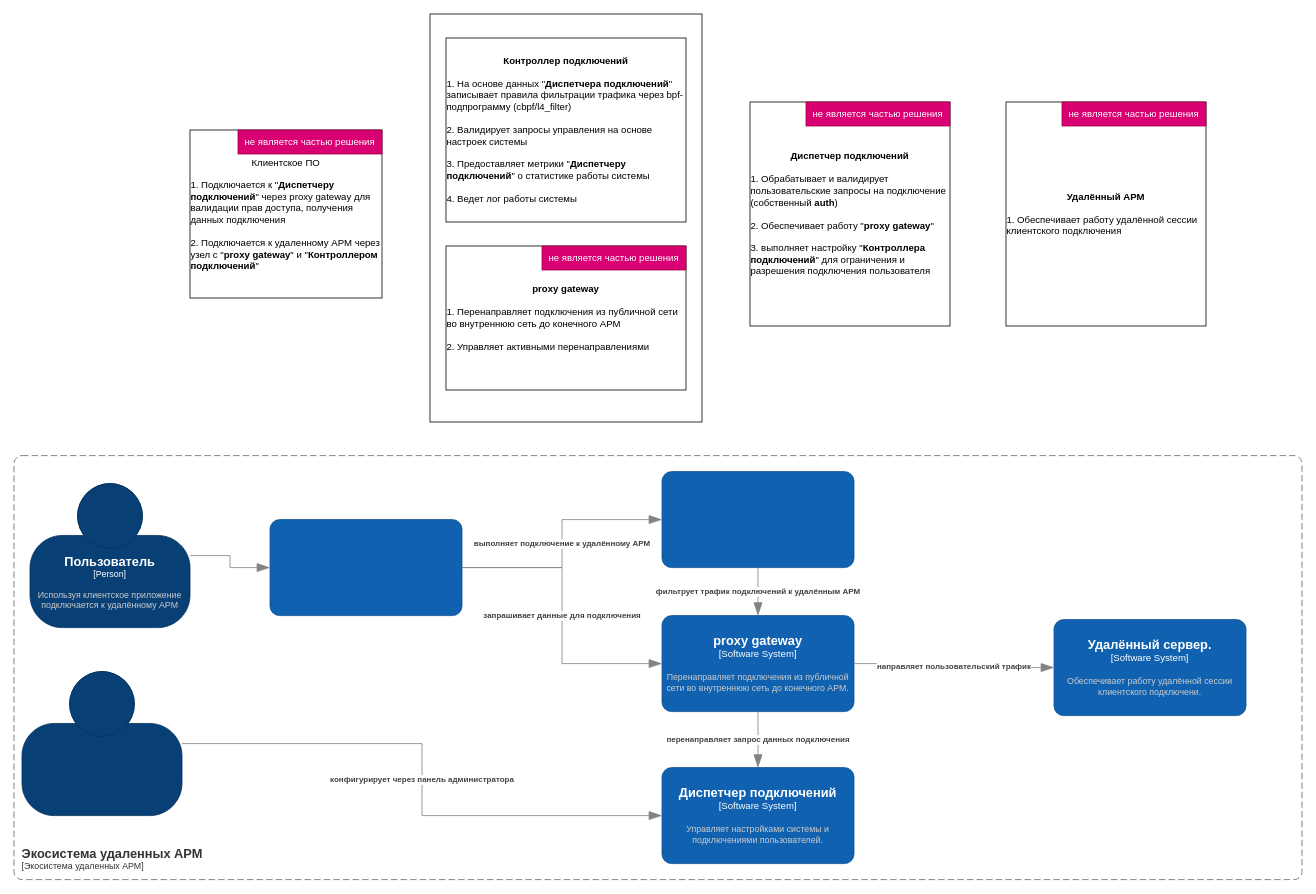
Image size: 1316x894. Some labels were removed from this diagram. The centre of each missing label's shape, as x and y in pixels:
"Client Application [Software System] Клиентское ПО для работы с удалённым АРМ." belongs at (365,567).
"Администратор [Person] Управляет работой системы." belongs at (101,743).
"Контроллер подключений [Software System] Управляет правилами фильтрации трафика." belongs at (757,519).
